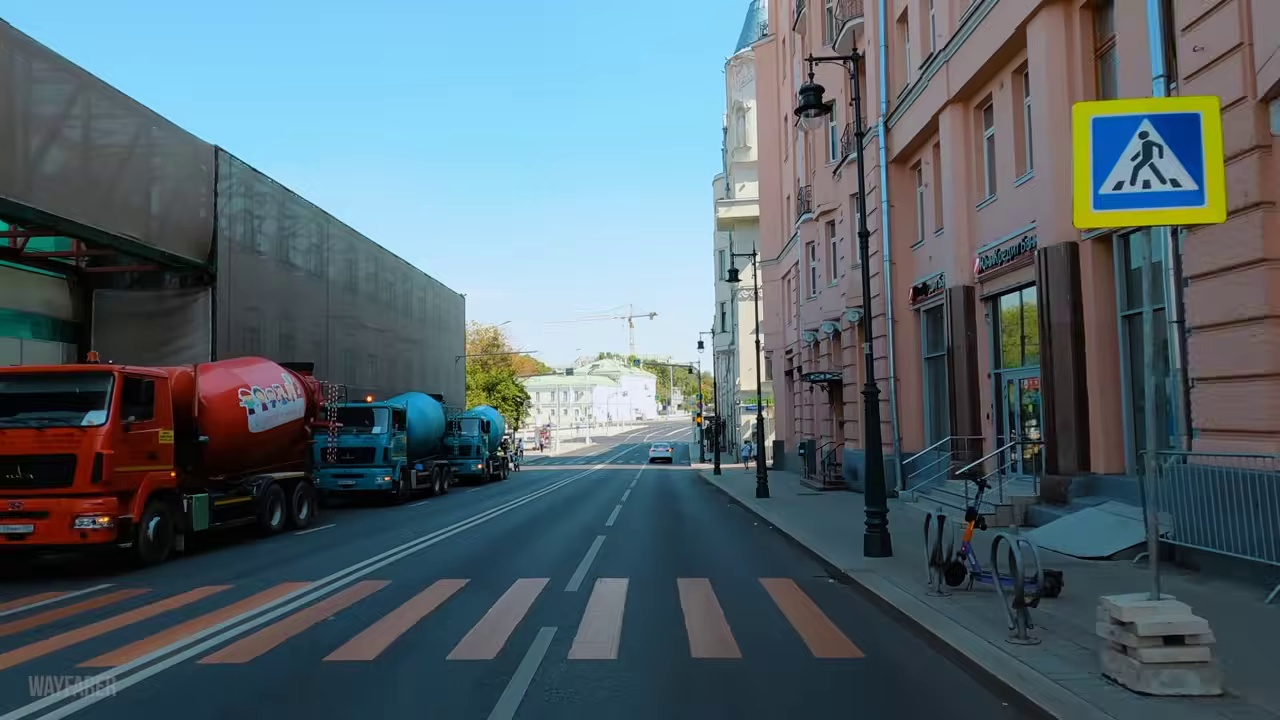apagada: (789, 84, 835, 129)
